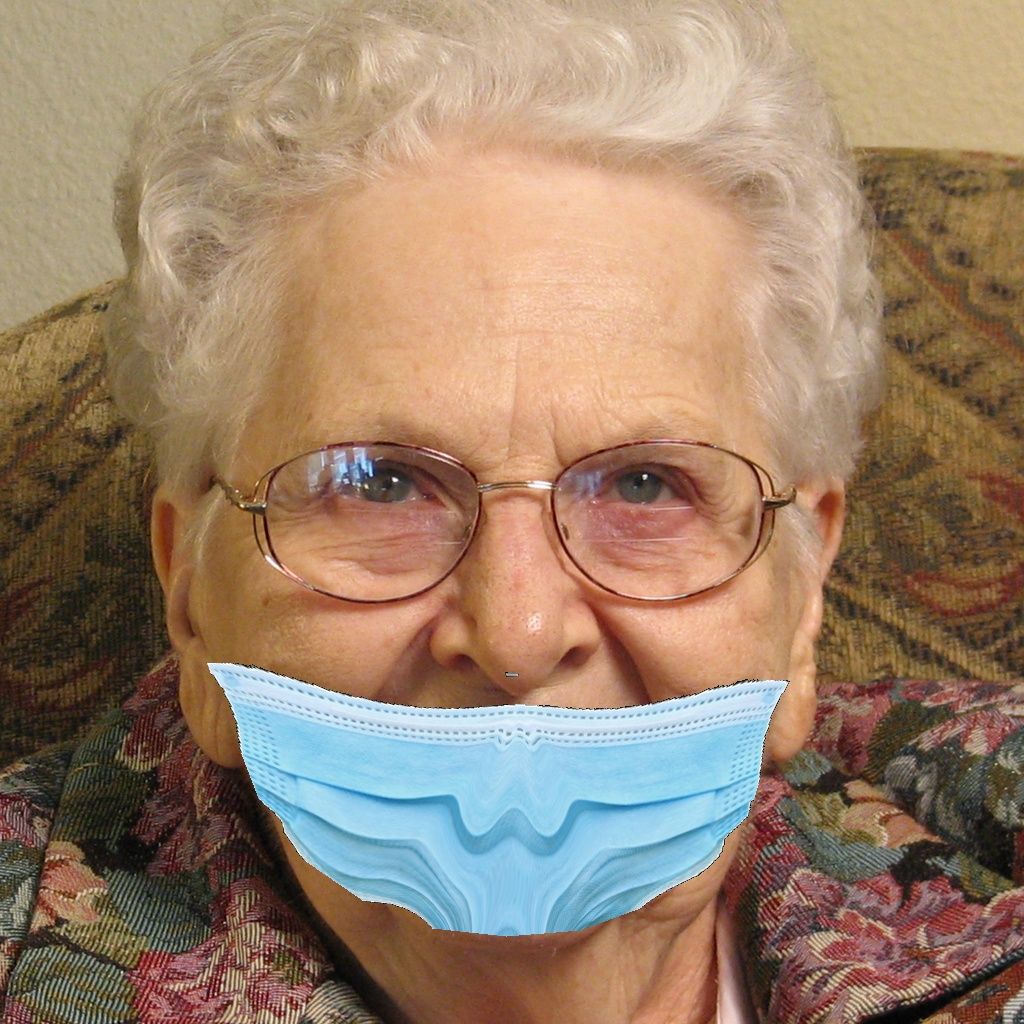mascarilla_mal_puesta: (227, 425, 814, 953)
